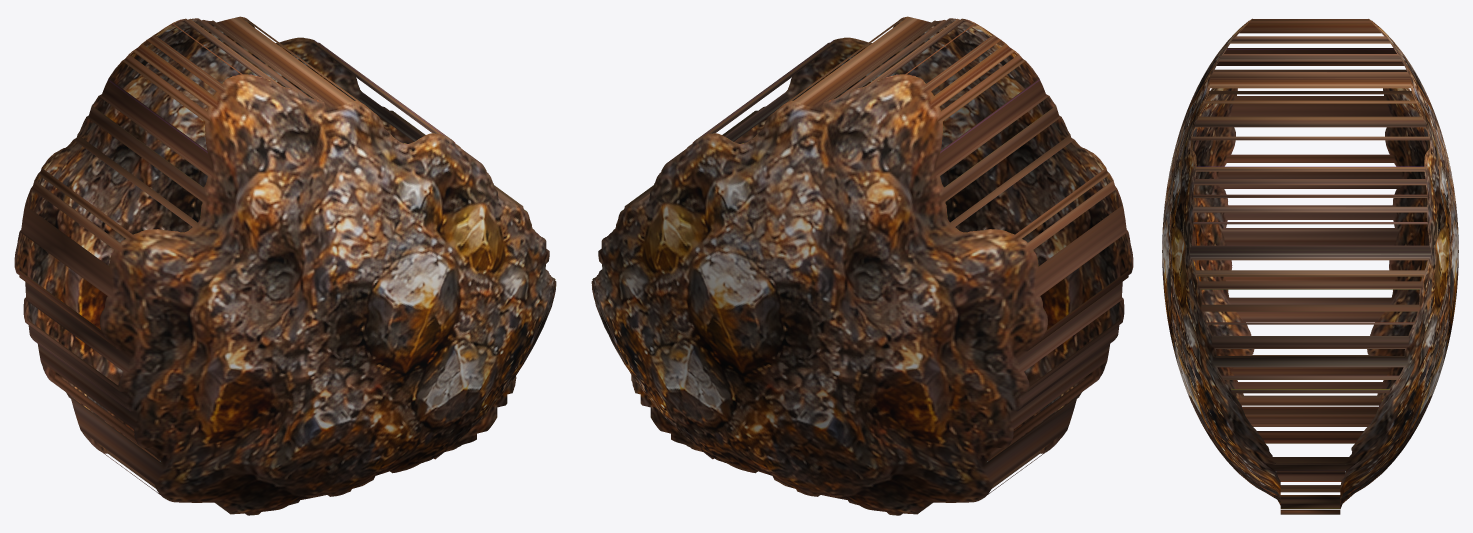
3 renders of one model, left to right at view 1: azimuth 30°, elevation 25°; view 2: azimuth 150°, elevation 25°; view 3: azimuth 270°, elevation 25°, orthographic. The views are drawn at different scales.
Visible parts, largest first — view 1: matter:4; view 2: matter:4; view 3: matter:4.
Part boxes in pixels (<box>): matter:4: <box>14,16,556,515</box>; matter:4: <box>591,16,1133,515</box>; matter:4: <box>1162,18,1458,514</box>.
Bounding box in the file's own units: 1.04 × 0.9545 × 0.66.
Materials: 1 (1 with a texture image).
